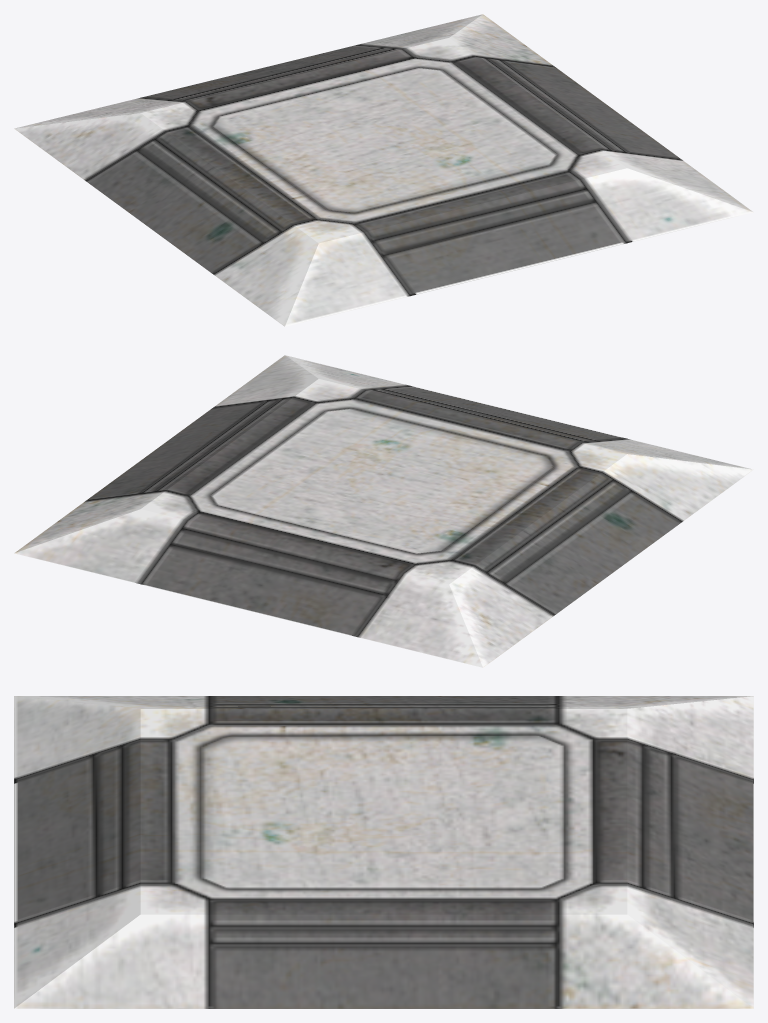
File: doodad_groundedge_corner.fbx
3 views of the same model, one above another, from view 1: azimuth 30°, elevation 25°; view 2: azimuth 150°, elevation 25°; view 3: azimuth 270°, elevation 25° (orthographic). The views are drawn at different scales.
Visible parts, largest first — view 1: pCube1; view 2: pCube1; view 3: pCube1.
Boxes of the visible parts, left/top/right/bottom form: pCube1: left=14, top=14, right=753, bottom=326; pCube1: left=14, top=355, right=753, bottom=667; pCube1: left=14, top=696, right=753, bottom=1008.
Size of the model in its own units: 2 by 0.1217 by 2.
Materials: 1 (1 with a texture image).
